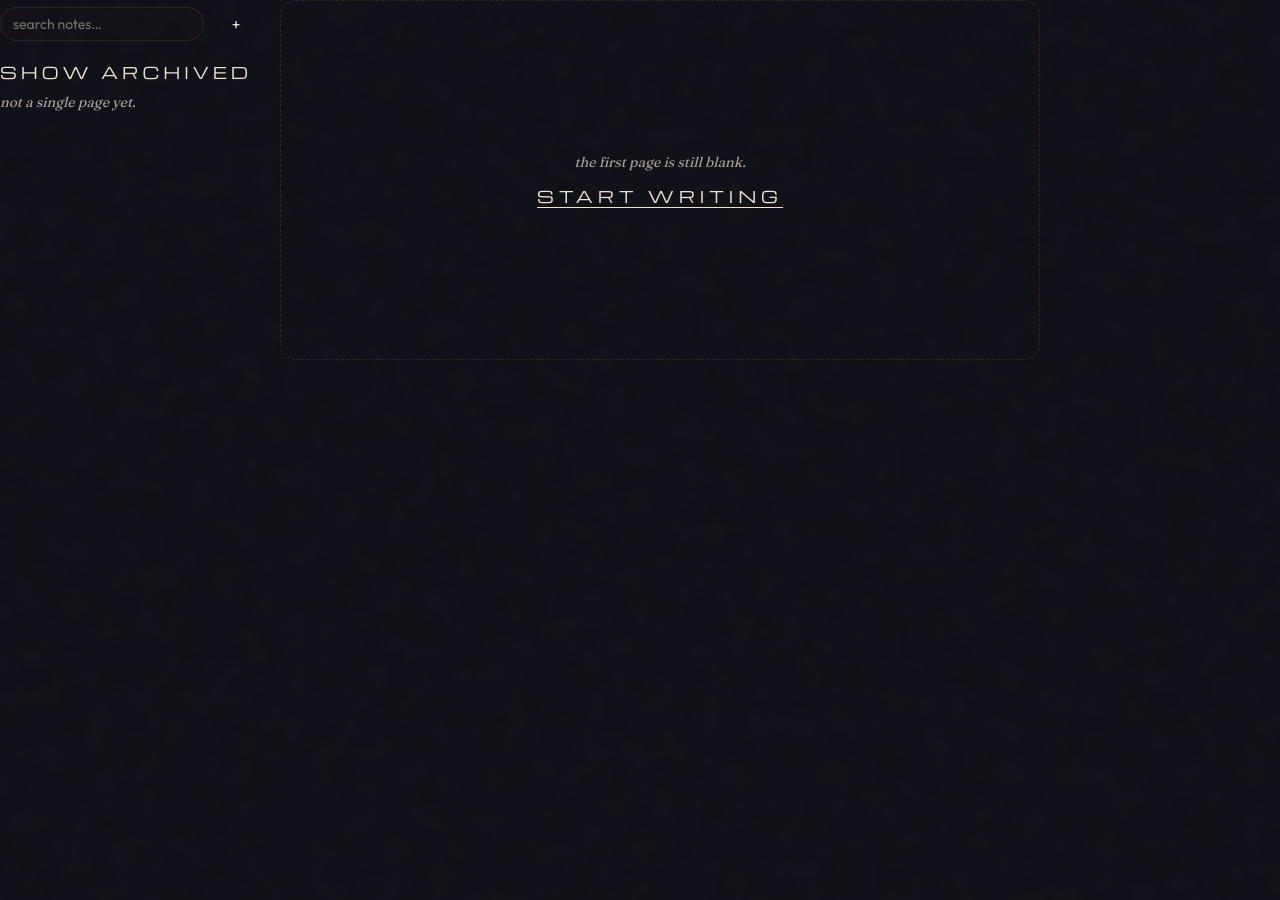
Test: NotebookShell fullscreen › toggling fullscreen does not remount the write editor (no data loss)
Click the button "start writing".
click(660, 196)  # box [537,184,783,208]
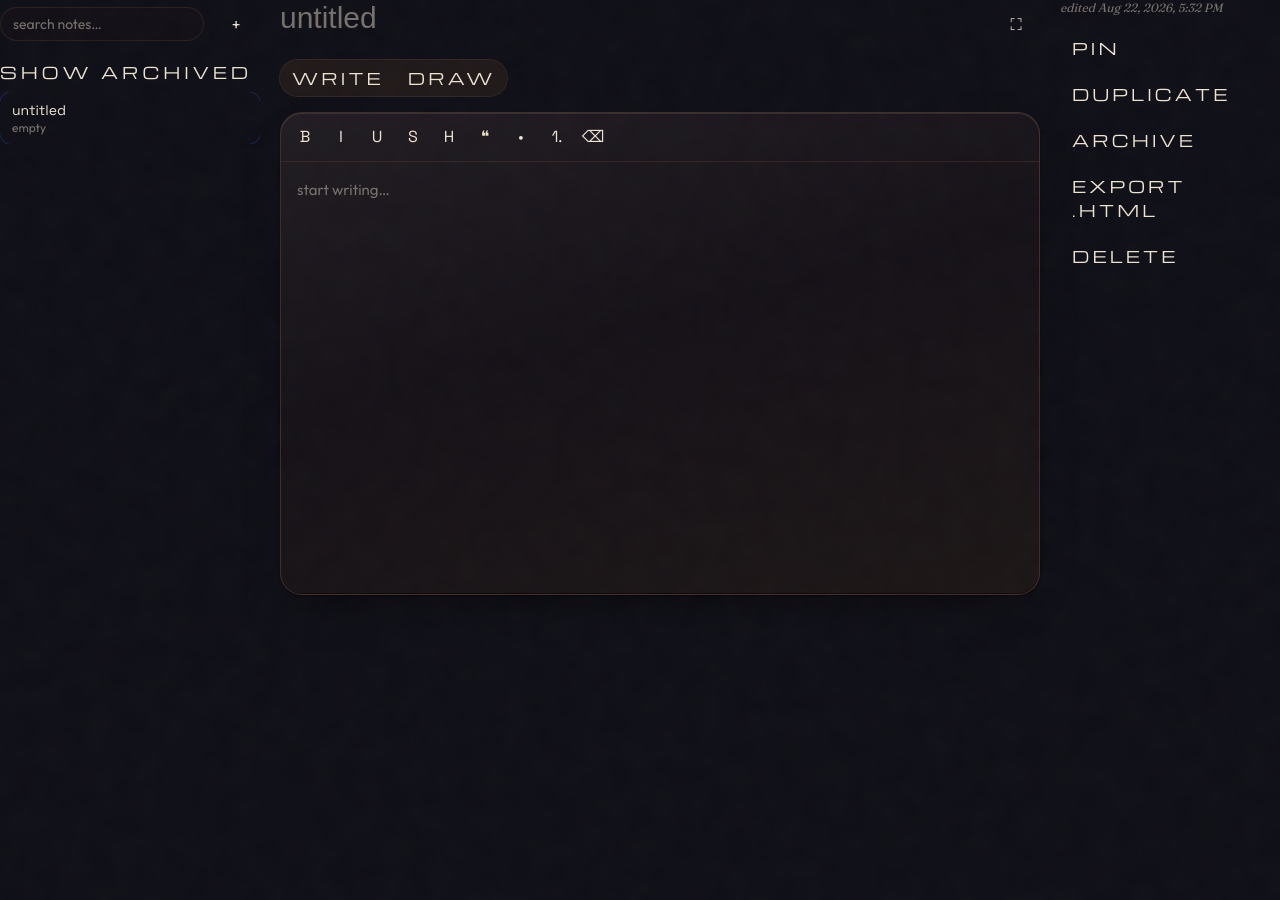
Expected: the field with placeholder "untitled" is shown, [280,0,980,36]
Expected: the text box with class "notebook-editable" is shown, [281,162,1039,594]
Click the button named "expand to fullscreen".
click(1016, 24)  # box [992,0,1040,48]
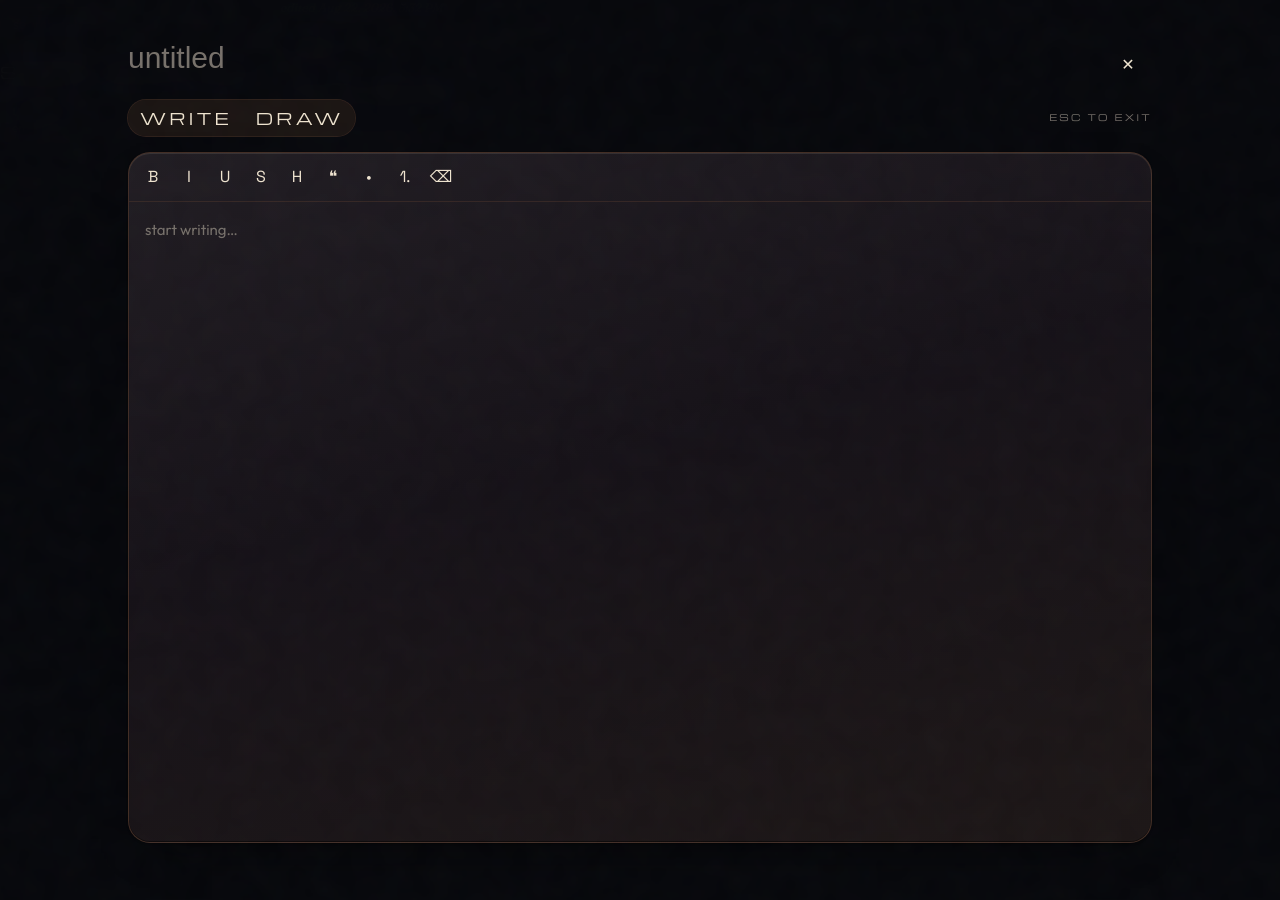
Expected: the button named "exit fullscreen" is shown, [1104,40,1152,88]
